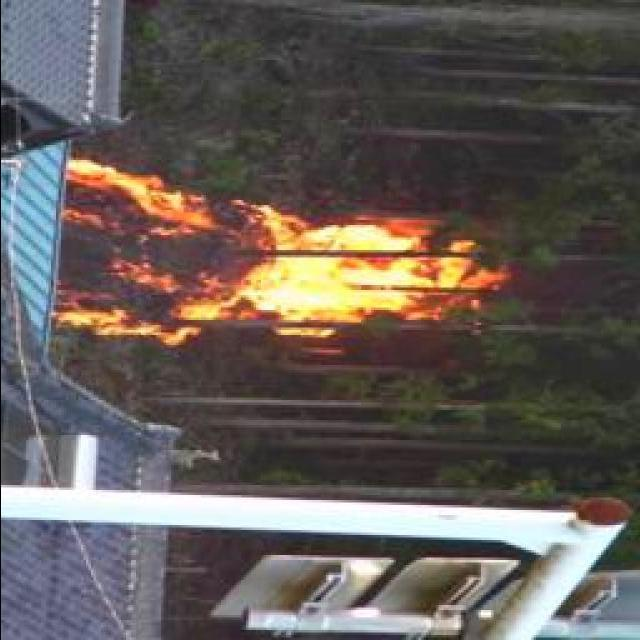Fire: (56, 158, 494, 348)
